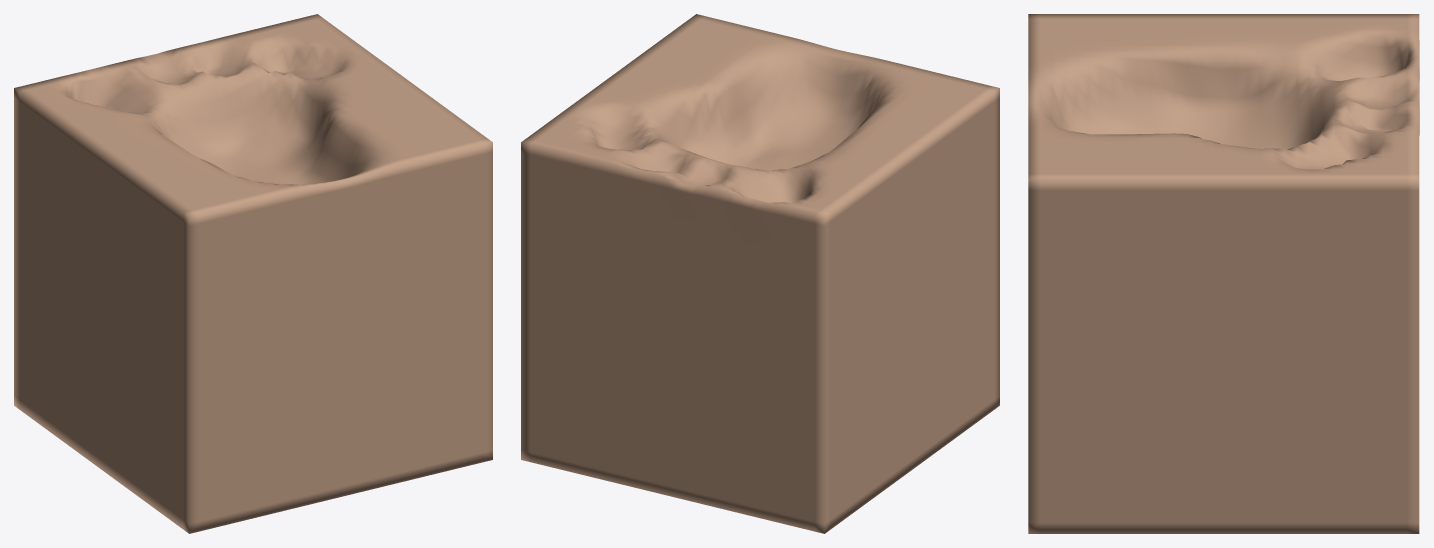
File: footprint.fbx
3 renders of one model, left to right at view 1: azimuth 30°, elevation 25°; view 2: azimuth 150°, elevation 25°; view 3: azimuth 270°, elevation 25°, orthographic. The views are drawn at different scales.
Visible parts, largest first — view 1: cube; view 2: cube; view 3: cube.
Part boxes in pixels (left/top/right/bottom): cube: left=14, top=14, right=492, bottom=533; cube: left=521, top=14, right=999, bottom=533; cube: left=1028, top=14, right=1419, bottom=533.
Bounding box in the file's own units: 406 × 406 × 406.
